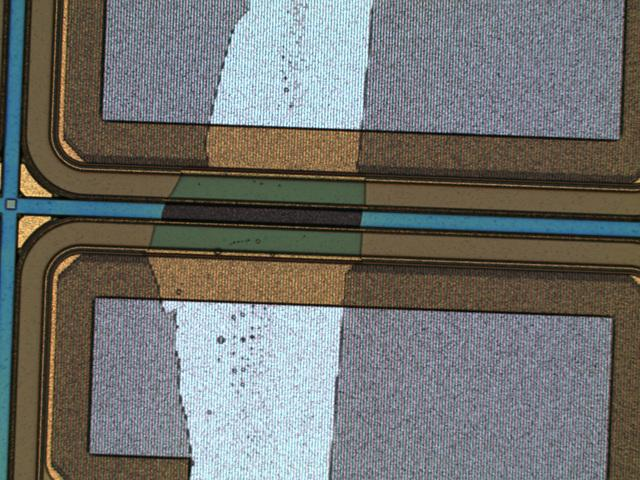COATING BAD: (143, 1, 379, 480)
